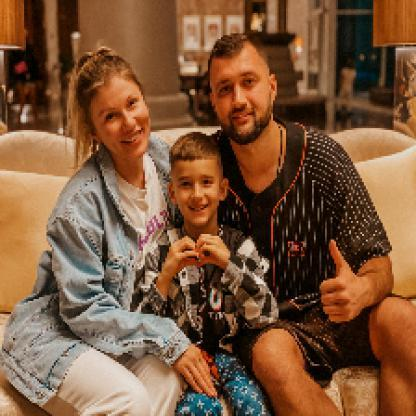child: (142, 133, 282, 416)
